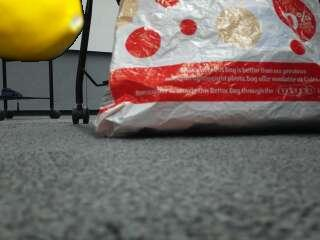lemon: (0, 0, 83, 61)
